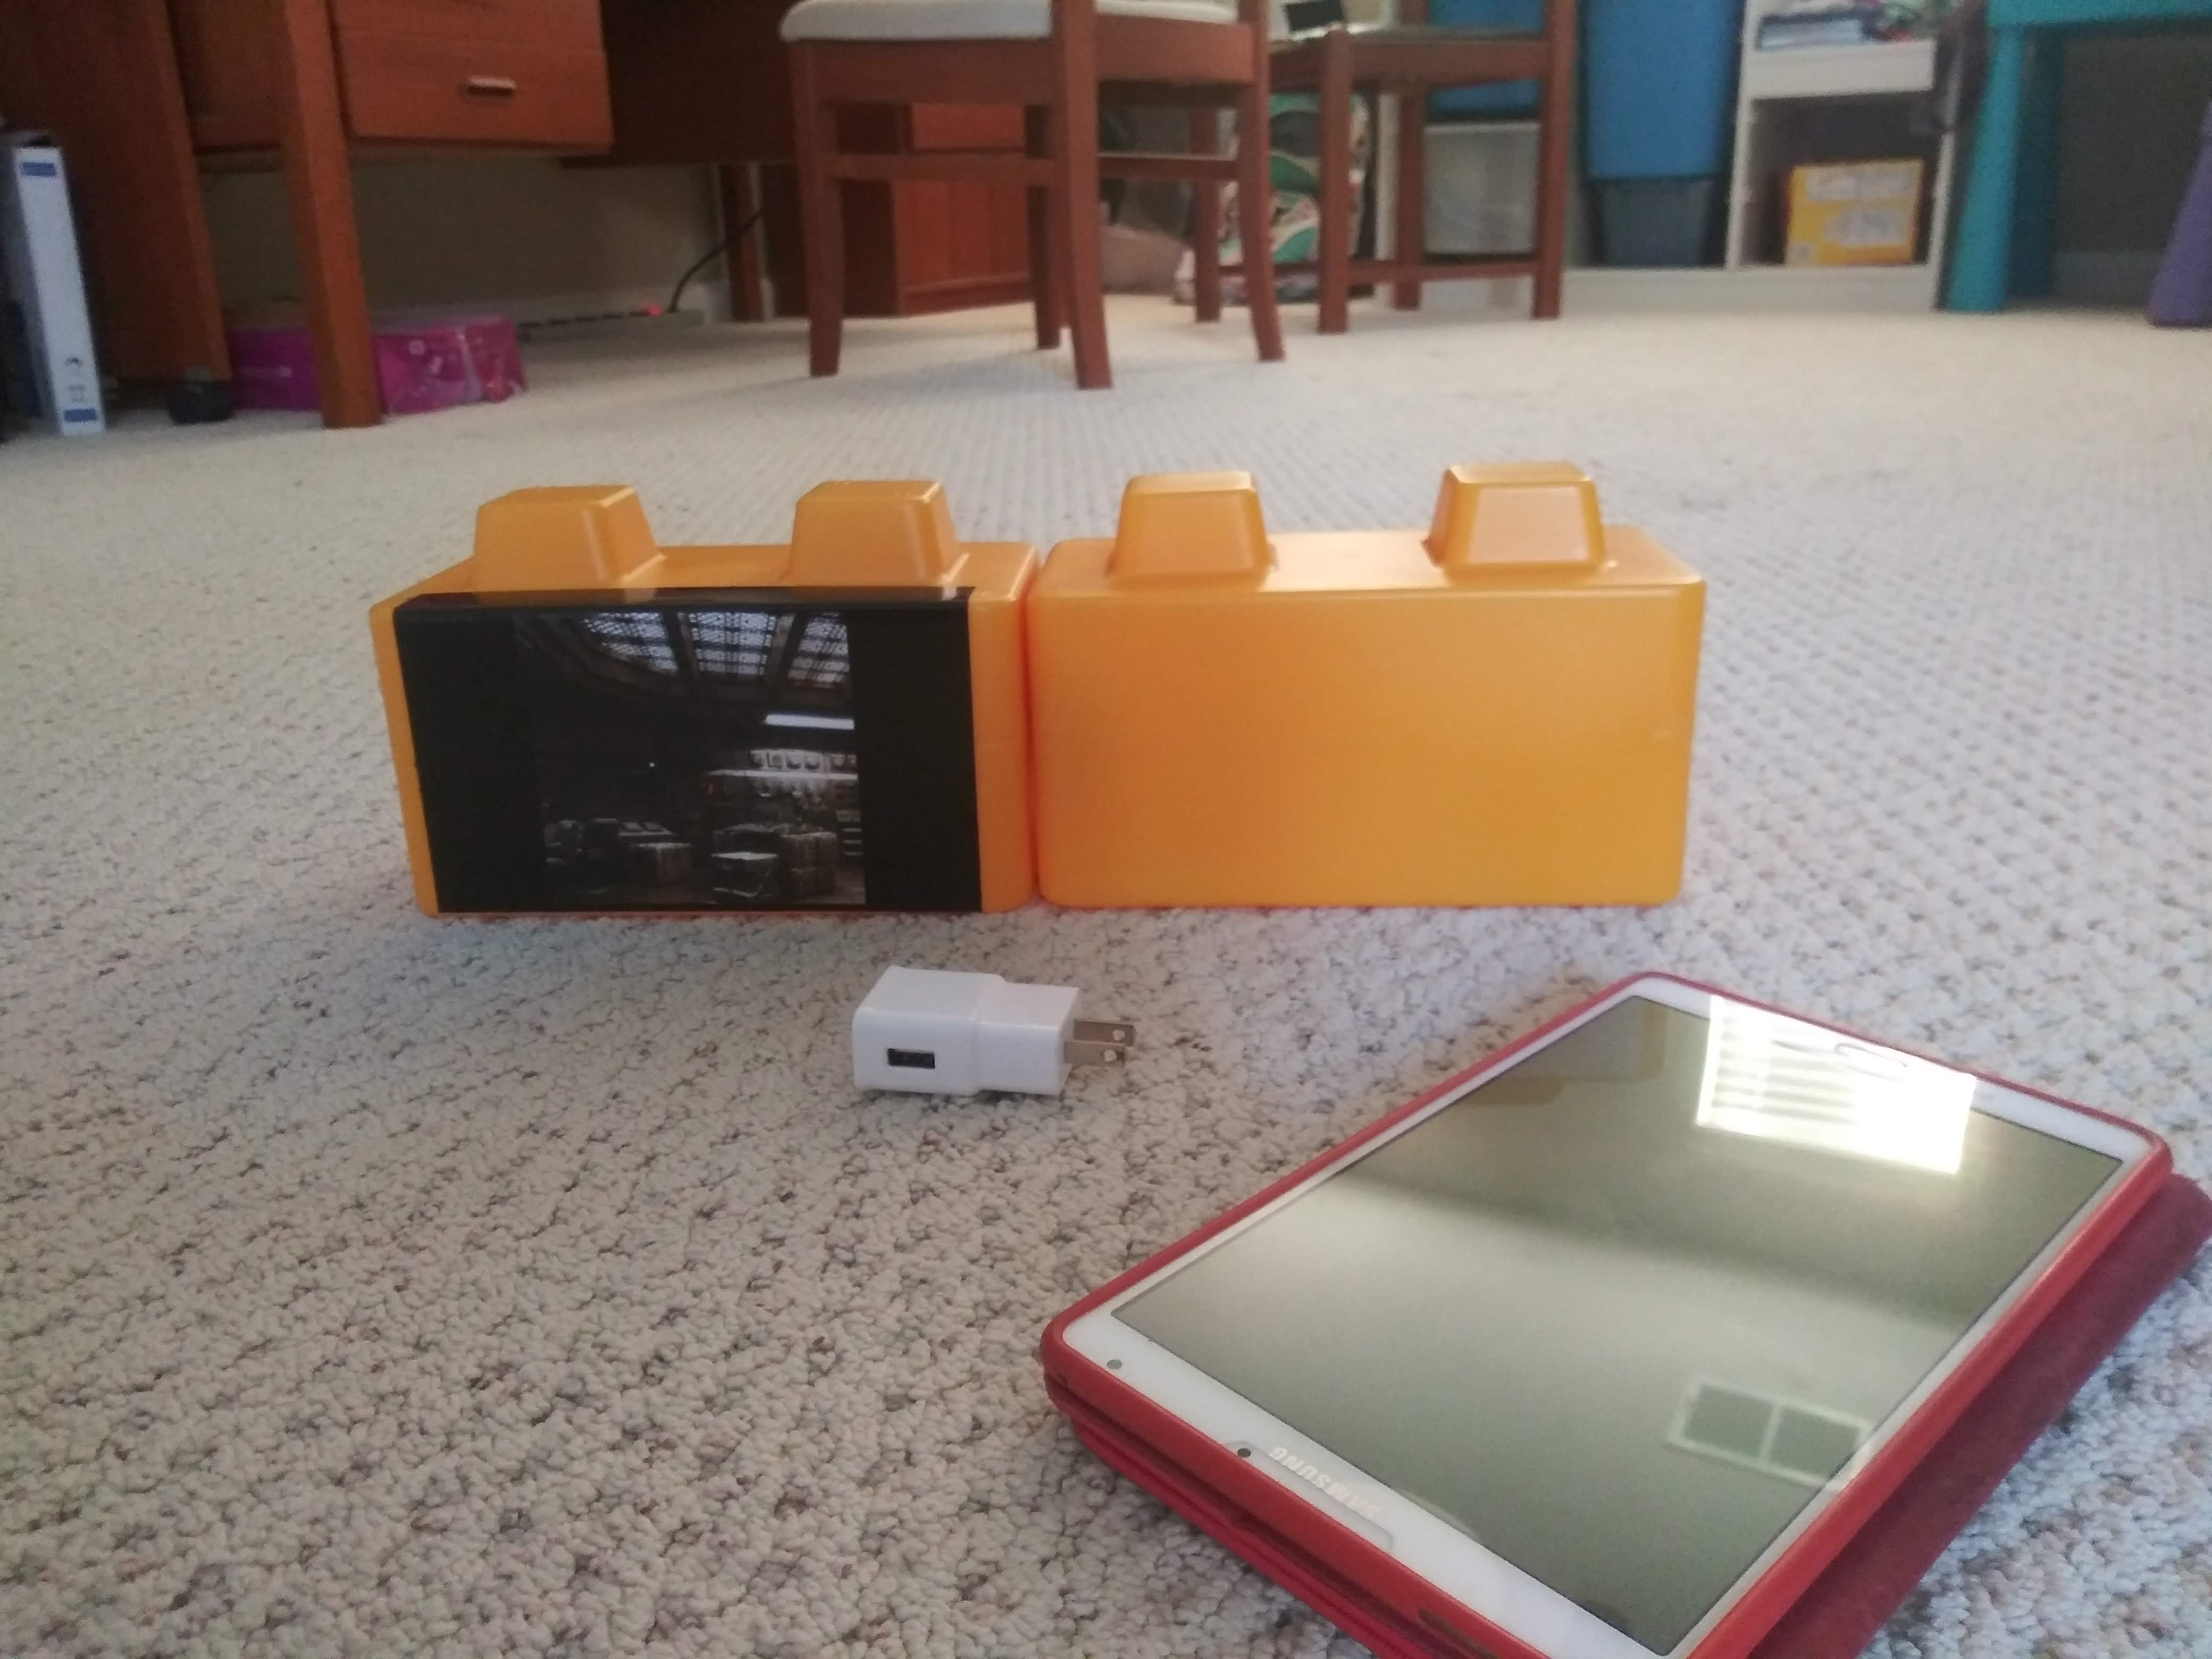skystone: (380, 509, 996, 927)
stone: (1050, 528, 1693, 922)
